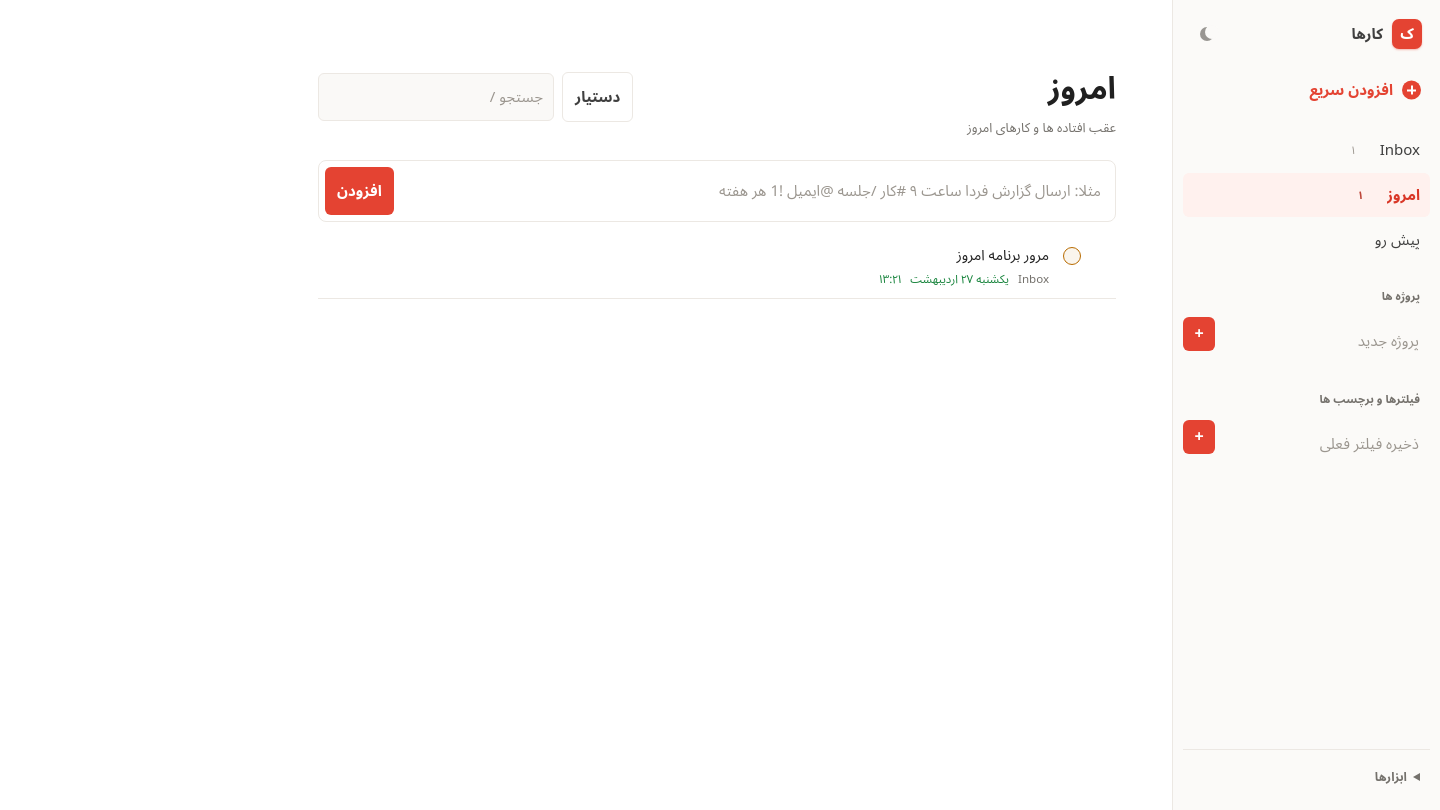
Scenario: App › previews assistant operations and applies only after confirmation
Step 1. Click the button "دستیار" → point(598, 97), box [562, 72, 633, 122]
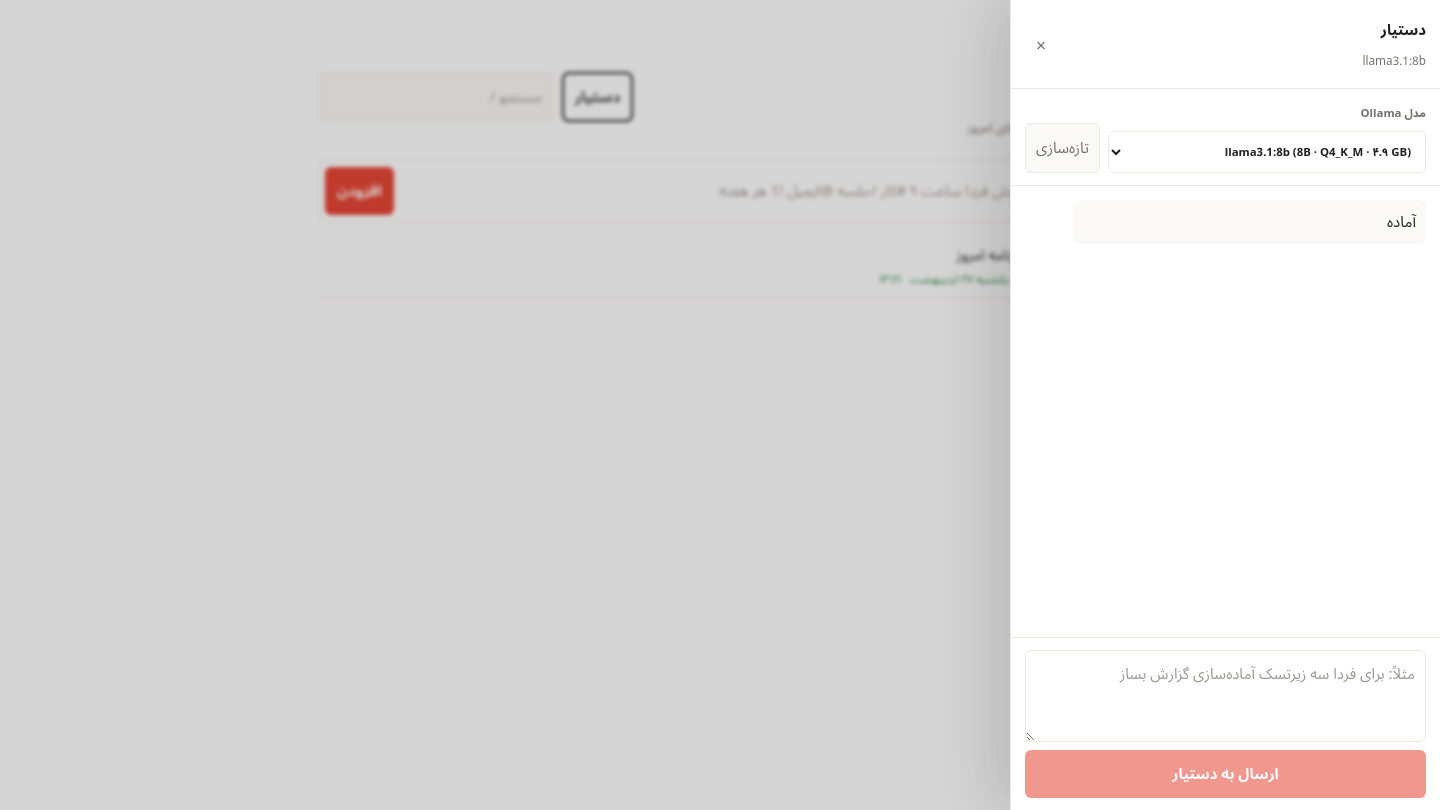
Step 2. Type "برای فردا گزارش بساز" into the text box with placeholder "مثلاً: برای فردا سه زیرتسک آماده‌سازی گزارش بساز" → point(1226, 696), box [1025, 650, 1426, 742]
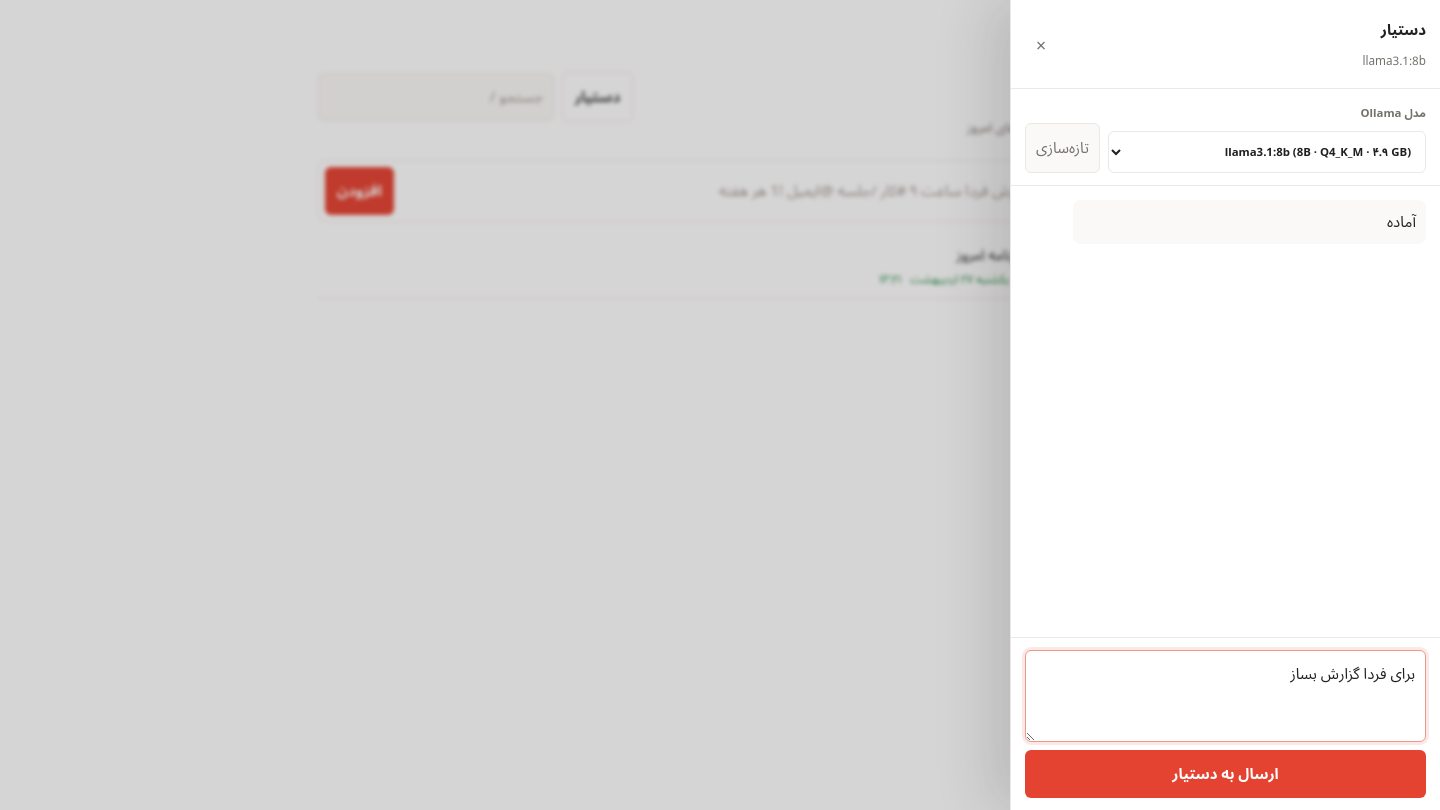
Step 3. Click the button "ارسال به دستیار" → point(1226, 774), box [1025, 750, 1426, 798]
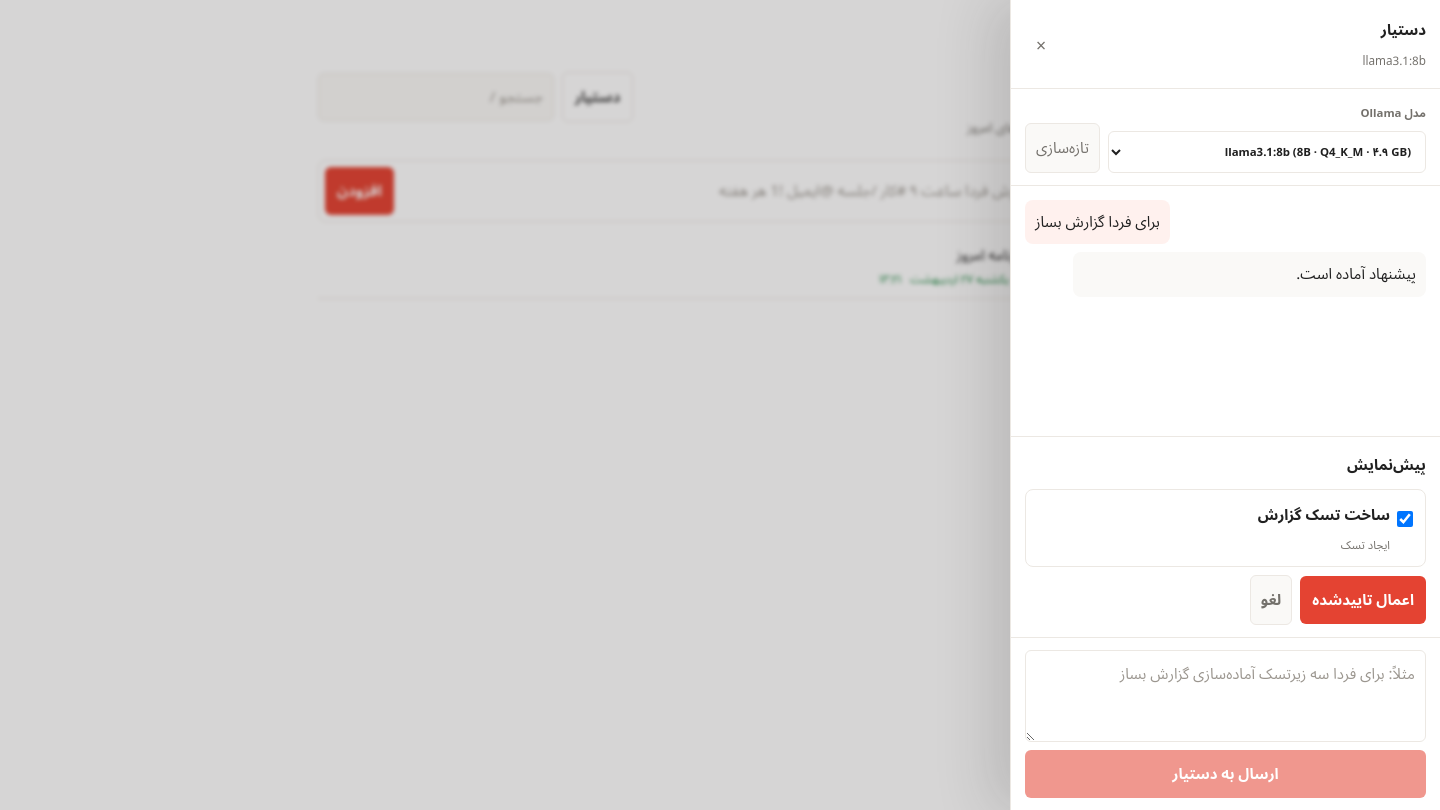
Expected: the text "ساخت تسک گزارش" is shown, [1258, 499, 1390, 531]
Step 4. Click the button "اعمال تاییدشده" → point(1363, 600), box [1300, 576, 1426, 624]
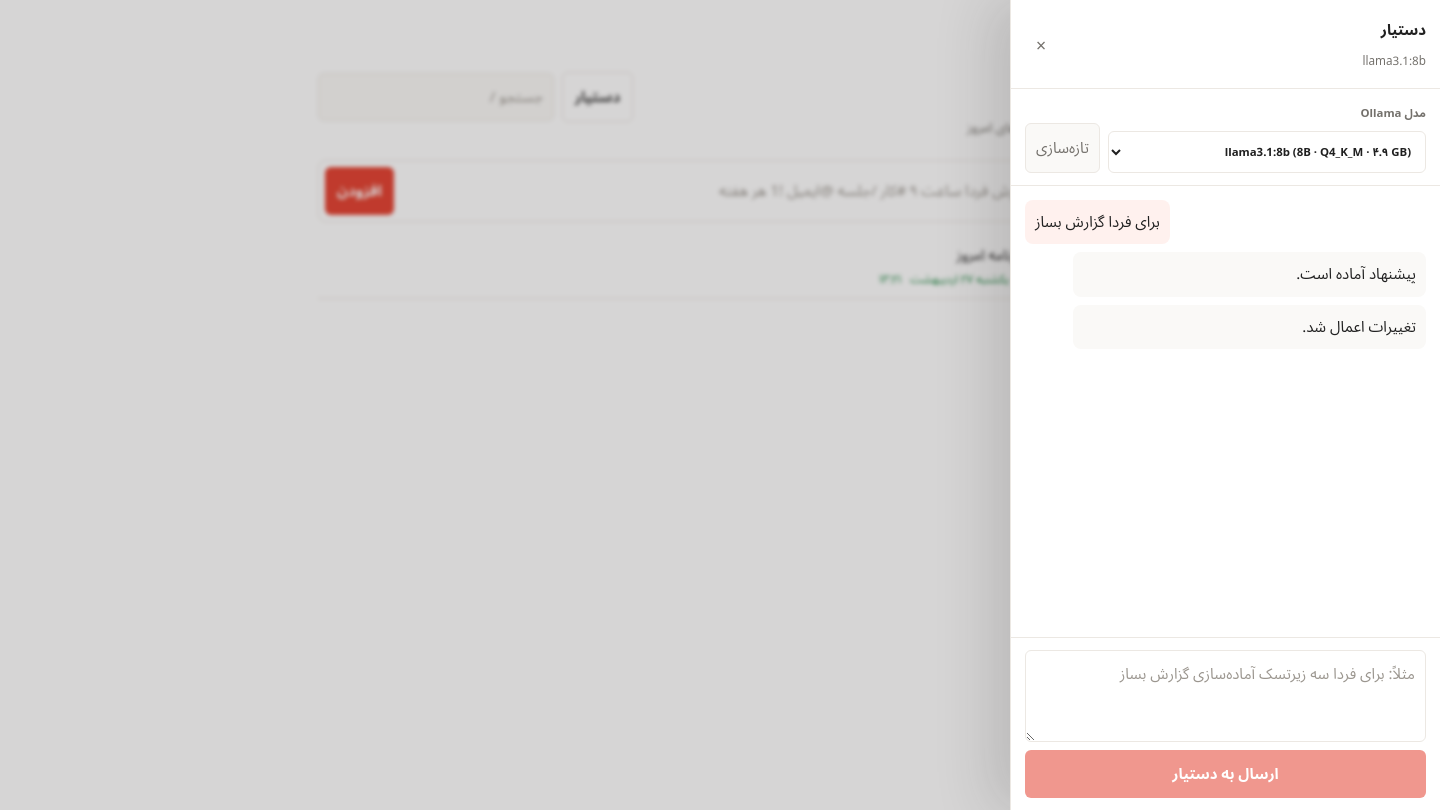
Expected: the text "تغییرات اعمال شد." is shown, [1073, 304, 1426, 349]
